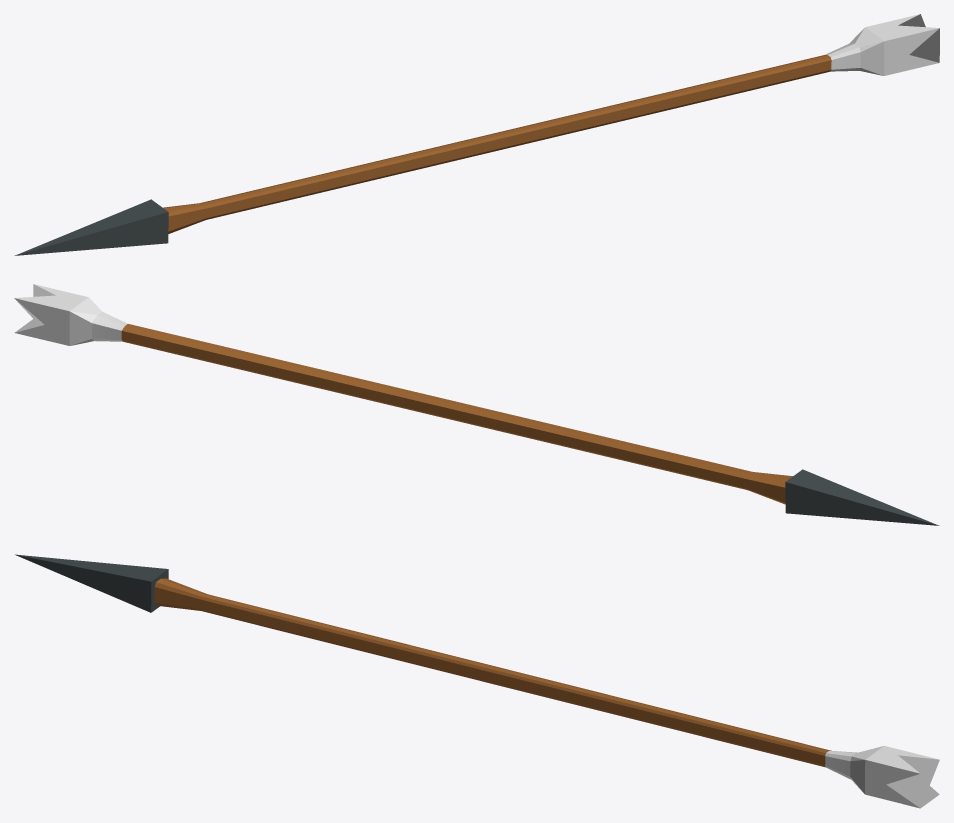
The model's file is arrow simple.fbx.
The picture shows the model from 3 angles, top to bottom: view 1: azimuth 30°, elevation 25°; view 2: azimuth 150°, elevation 25°; view 3: azimuth 330°, elevation 25°; orthographic projection.
Parts seen in each view (by area): view 1: Cube; view 2: Cube; view 3: Cube.
Boxes of the visible parts, x1,y1,x2,y2 form: Cube: (14,14,939,255); Cube: (14,284,939,525); Cube: (15,554,939,808).
Bounding box in the file's own units: 837 × 36.45 × 36.45.
